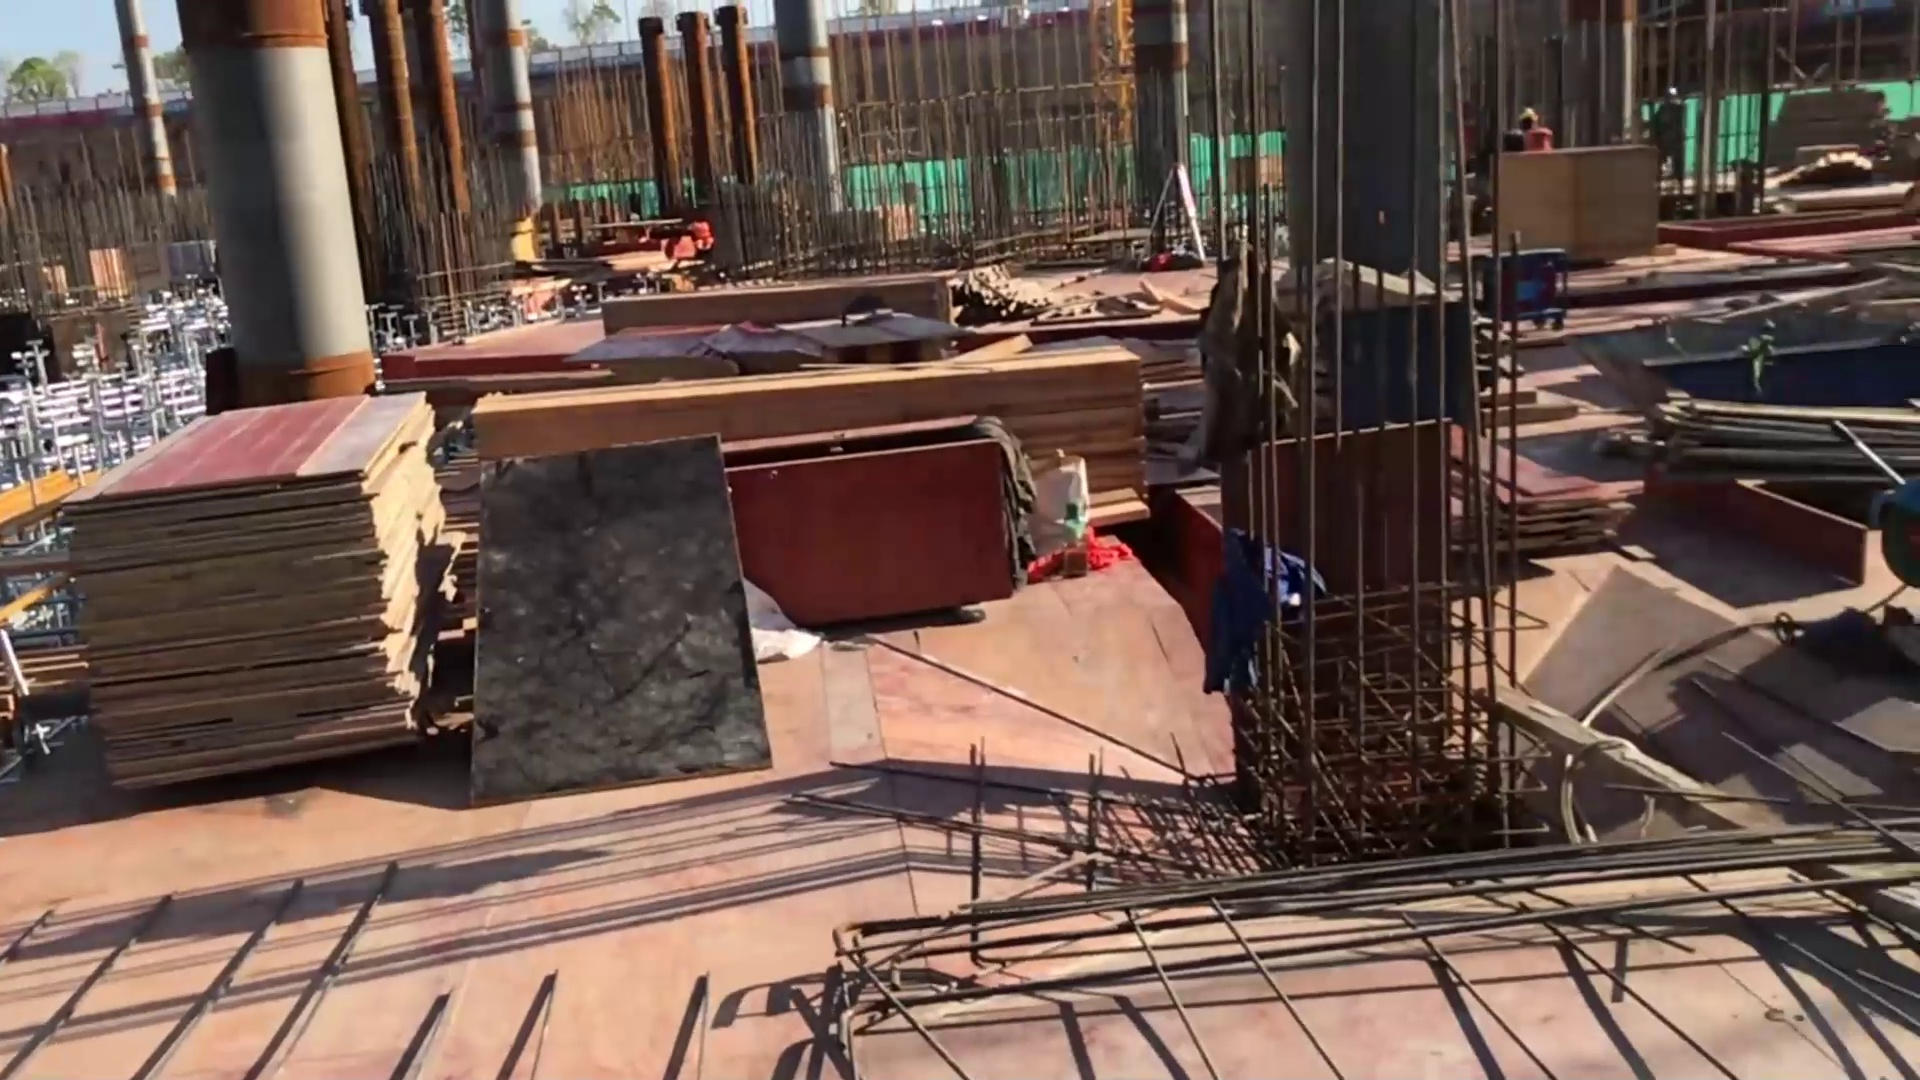board: (76, 397, 429, 781)
wood: (465, 335, 1170, 539)
